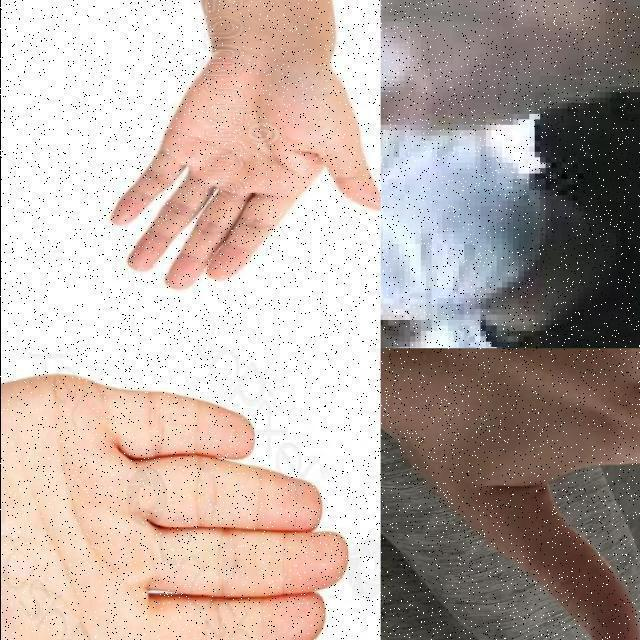hand: (0, 372, 347, 640), (380, 348, 640, 640), (108, 39, 380, 290), (380, 0, 616, 164)
